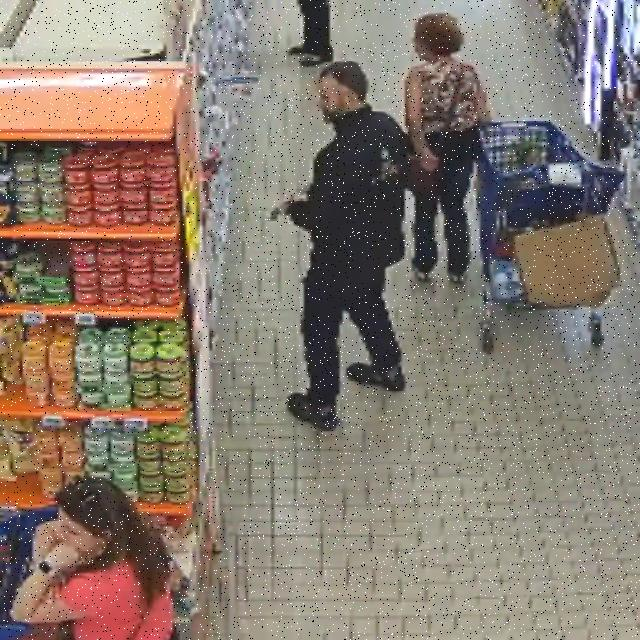article: (268, 196, 292, 221)
hands: (34, 521, 61, 560), (47, 543, 80, 572), (416, 147, 439, 171), (288, 193, 308, 204)
person: (288, 62, 407, 431), (11, 478, 174, 639), (406, 14, 489, 283)
